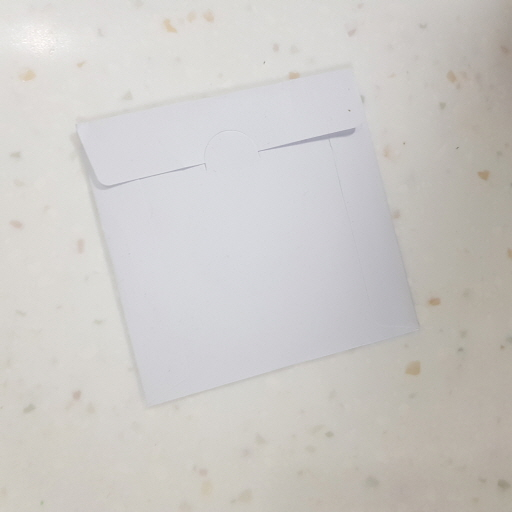Paper_2: (60, 60, 447, 420)
